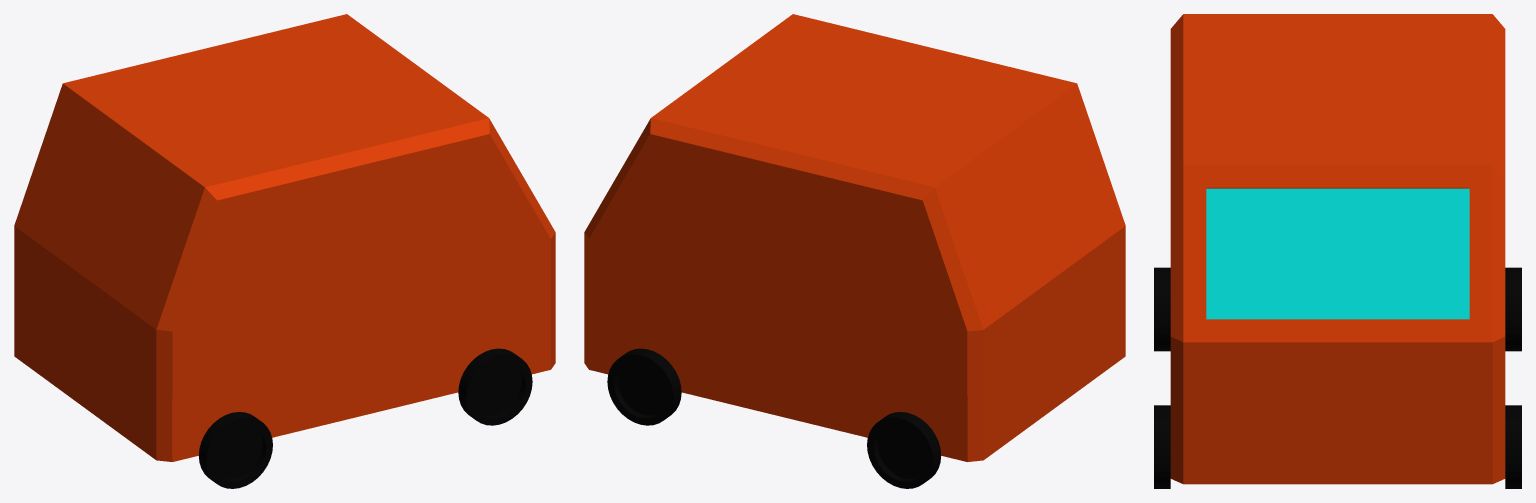
Rendered from ミニカー(簡易) 1.fbx.
3 renders of one model, left to right at view 1: azimuth 30°, elevation 25°; view 2: azimuth 150°, elevation 25°; view 3: azimuth 270°, elevation 25°, orthographic. The views are drawn at different scales.
Visible parts, largest first — view 1: 立方体, 円柱; view 2: 立方体, 円柱; view 3: 立方体, 円柱.
Boxes of the visible parts, x1,y1,x2,y2 form: 立方体: (14, 14, 555, 461); 円柱: (198, 348, 532, 488); 立方体: (584, 14, 1125, 461); 円柱: (607, 348, 941, 488); 立方体: (1170, 14, 1505, 484); 円柱: (1154, 267, 1521, 488).
Bounding box in the file's own units: 600 × 425 × 440.
